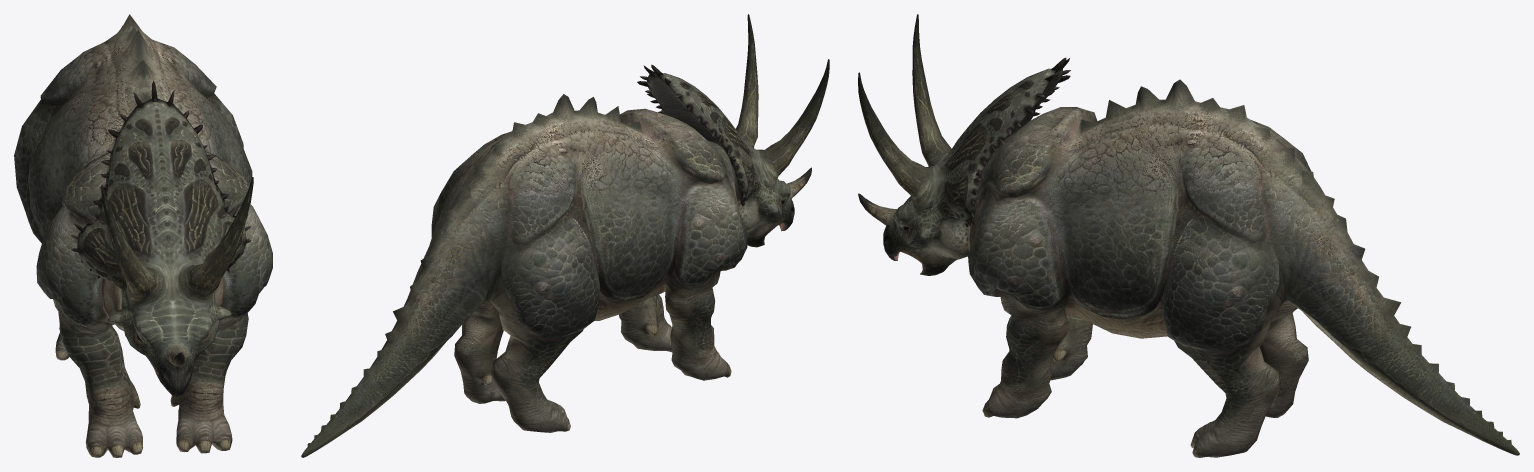
File: dinosaurio2.fbx
3 renders of one model, left to right at view 1: azimuth 30°, elevation 25°; view 2: azimuth 150°, elevation 25°; view 3: azimuth 270°, elevation 25°, orthographic. The views are drawn at different scales.
Visible parts, largest first — view 1: Object_7.001; view 2: Object_7.001; view 3: Object_7.001.
Part boxes in pixels (x1,y1,x2,y2): Object_7.001: [14, 14, 272, 457]; Object_7.001: [301, 14, 829, 457]; Object_7.001: [858, 14, 1519, 457].
Size of the model in its own units: 422 by 474 by 827.
Materials: 1 (1 with a texture image).
